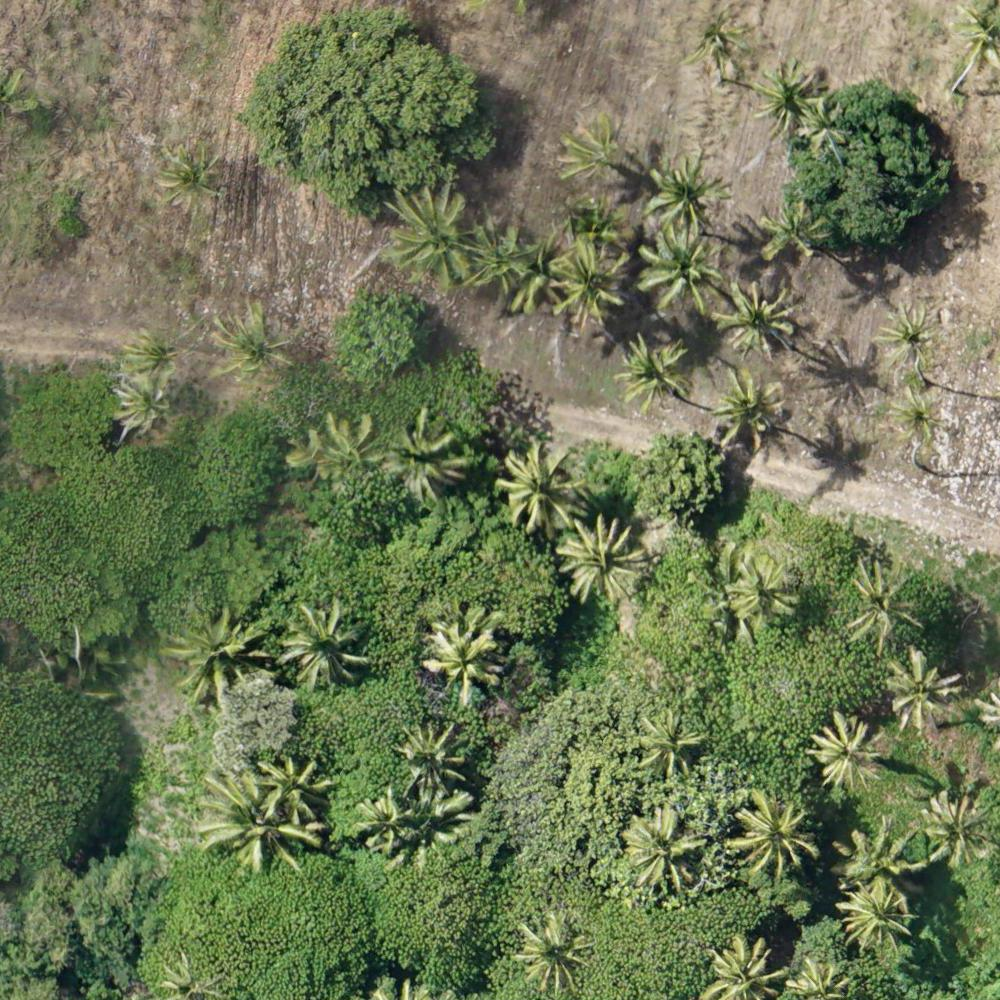Palm: (387, 181, 481, 283), (199, 773, 300, 867), (729, 788, 817, 877), (173, 615, 263, 701), (558, 515, 651, 598), (279, 601, 369, 685), (496, 446, 583, 527), (391, 406, 468, 494), (620, 807, 706, 885), (421, 616, 503, 697), (850, 561, 928, 646), (717, 276, 800, 355), (212, 304, 295, 382), (640, 226, 717, 310), (617, 333, 698, 411), (541, 241, 621, 319), (713, 368, 790, 449), (390, 718, 471, 795), (881, 644, 954, 729), (512, 911, 593, 985), (699, 931, 787, 999), (838, 877, 917, 951), (809, 712, 884, 788), (729, 551, 802, 628), (921, 790, 997, 863), (309, 412, 379, 490), (649, 155, 724, 226), (466, 223, 536, 297), (557, 108, 625, 183), (688, 4, 759, 73), (152, 145, 223, 213), (761, 57, 824, 133), (265, 758, 334, 827), (635, 714, 704, 779), (759, 197, 825, 260), (122, 321, 184, 384), (883, 382, 945, 445), (883, 305, 943, 368), (111, 374, 173, 434), (364, 794, 417, 859), (796, 97, 848, 154)
